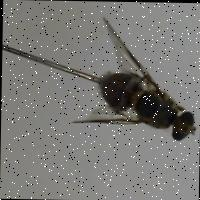Oriental-fruit-fly: (62, 26, 191, 140)
